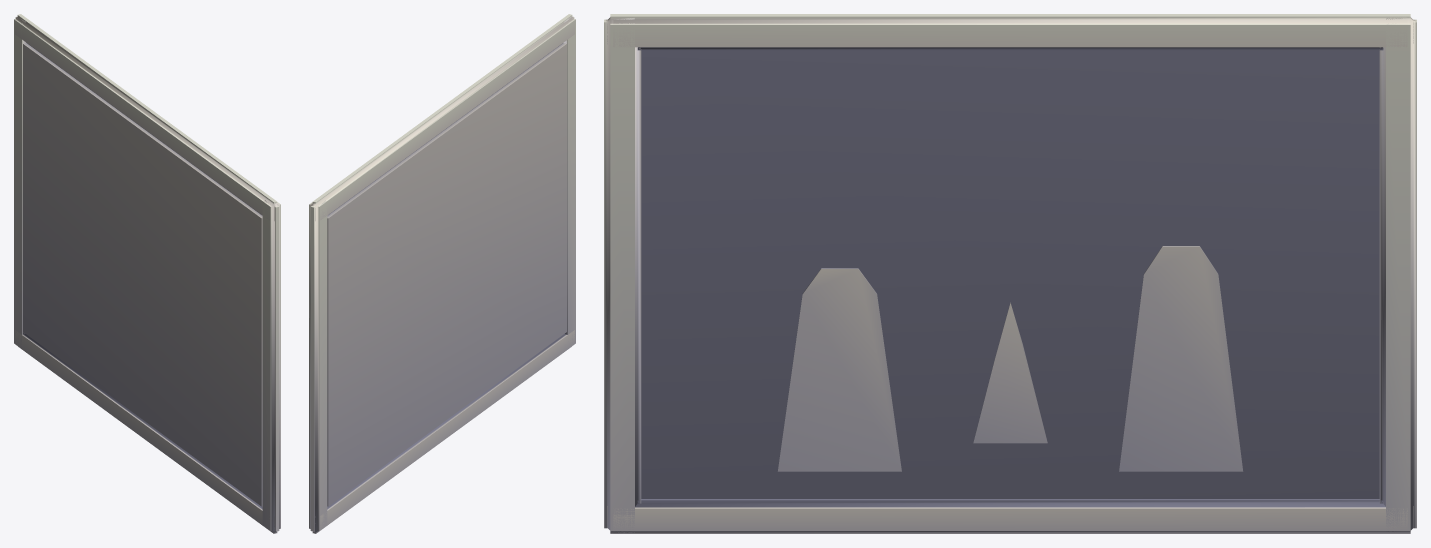
Rendered from fresco-panel.glb.
The picture shows the model from 3 angles, left to right: view 1: azimuth 30°, elevation 25°; view 2: azimuth 150°, elevation 25°; view 3: azimuth 270°, elevation 25°; orthographic projection. The views are drawn at different scales.
Parts seen in each view (by area): view 1: body; view 2: body; view 3: body.
Boxes of the visible parts, x1,y1,x2,y2 form: body: (14, 14, 280, 533); body: (309, 14, 575, 533); body: (604, 14, 1416, 533).
Bounding box in the file's own units: 0.06 × 1.84 × 2.62.
